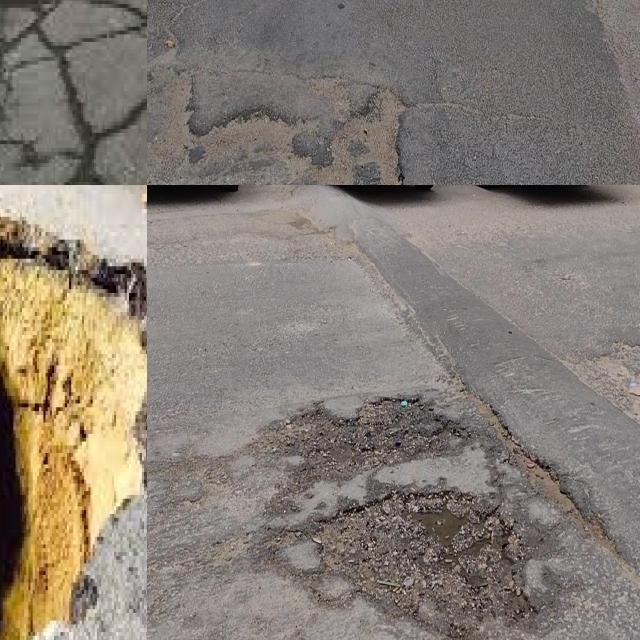Pothole: (0, 208, 147, 640), (147, 48, 404, 185), (317, 485, 539, 629), (278, 392, 463, 484)
